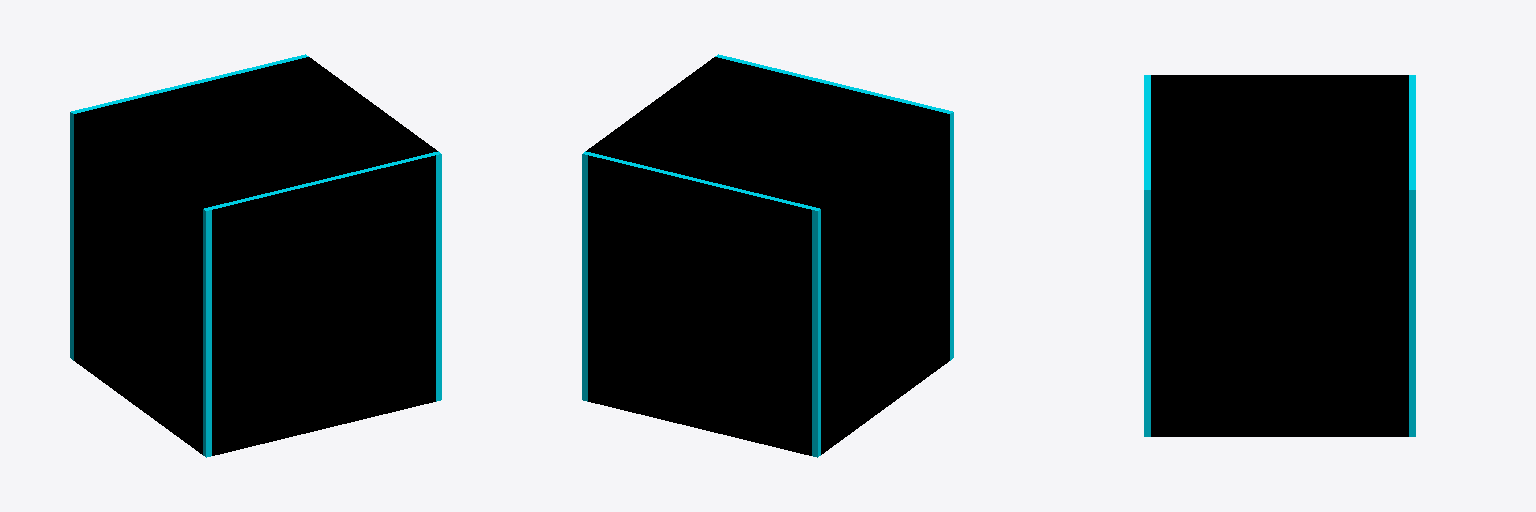
3 views of the same model, side by side, from view 1: azimuth 30°, elevation 25°; view 2: azimuth 150°, elevation 25°; view 3: azimuth 270°, elevation 25° (orthographic).
Parts seen in each view (by area): view 1: Cube; view 2: Cube; view 3: Cube.
Part boxes in pixels (x1,y1,x2,y2): Cube: (70, 54, 441, 457); Cube: (582, 54, 953, 457); Cube: (1144, 75, 1415, 436).
Size of the model in its own units: 2 by 2 by 2.
1 materials, 1 textured.